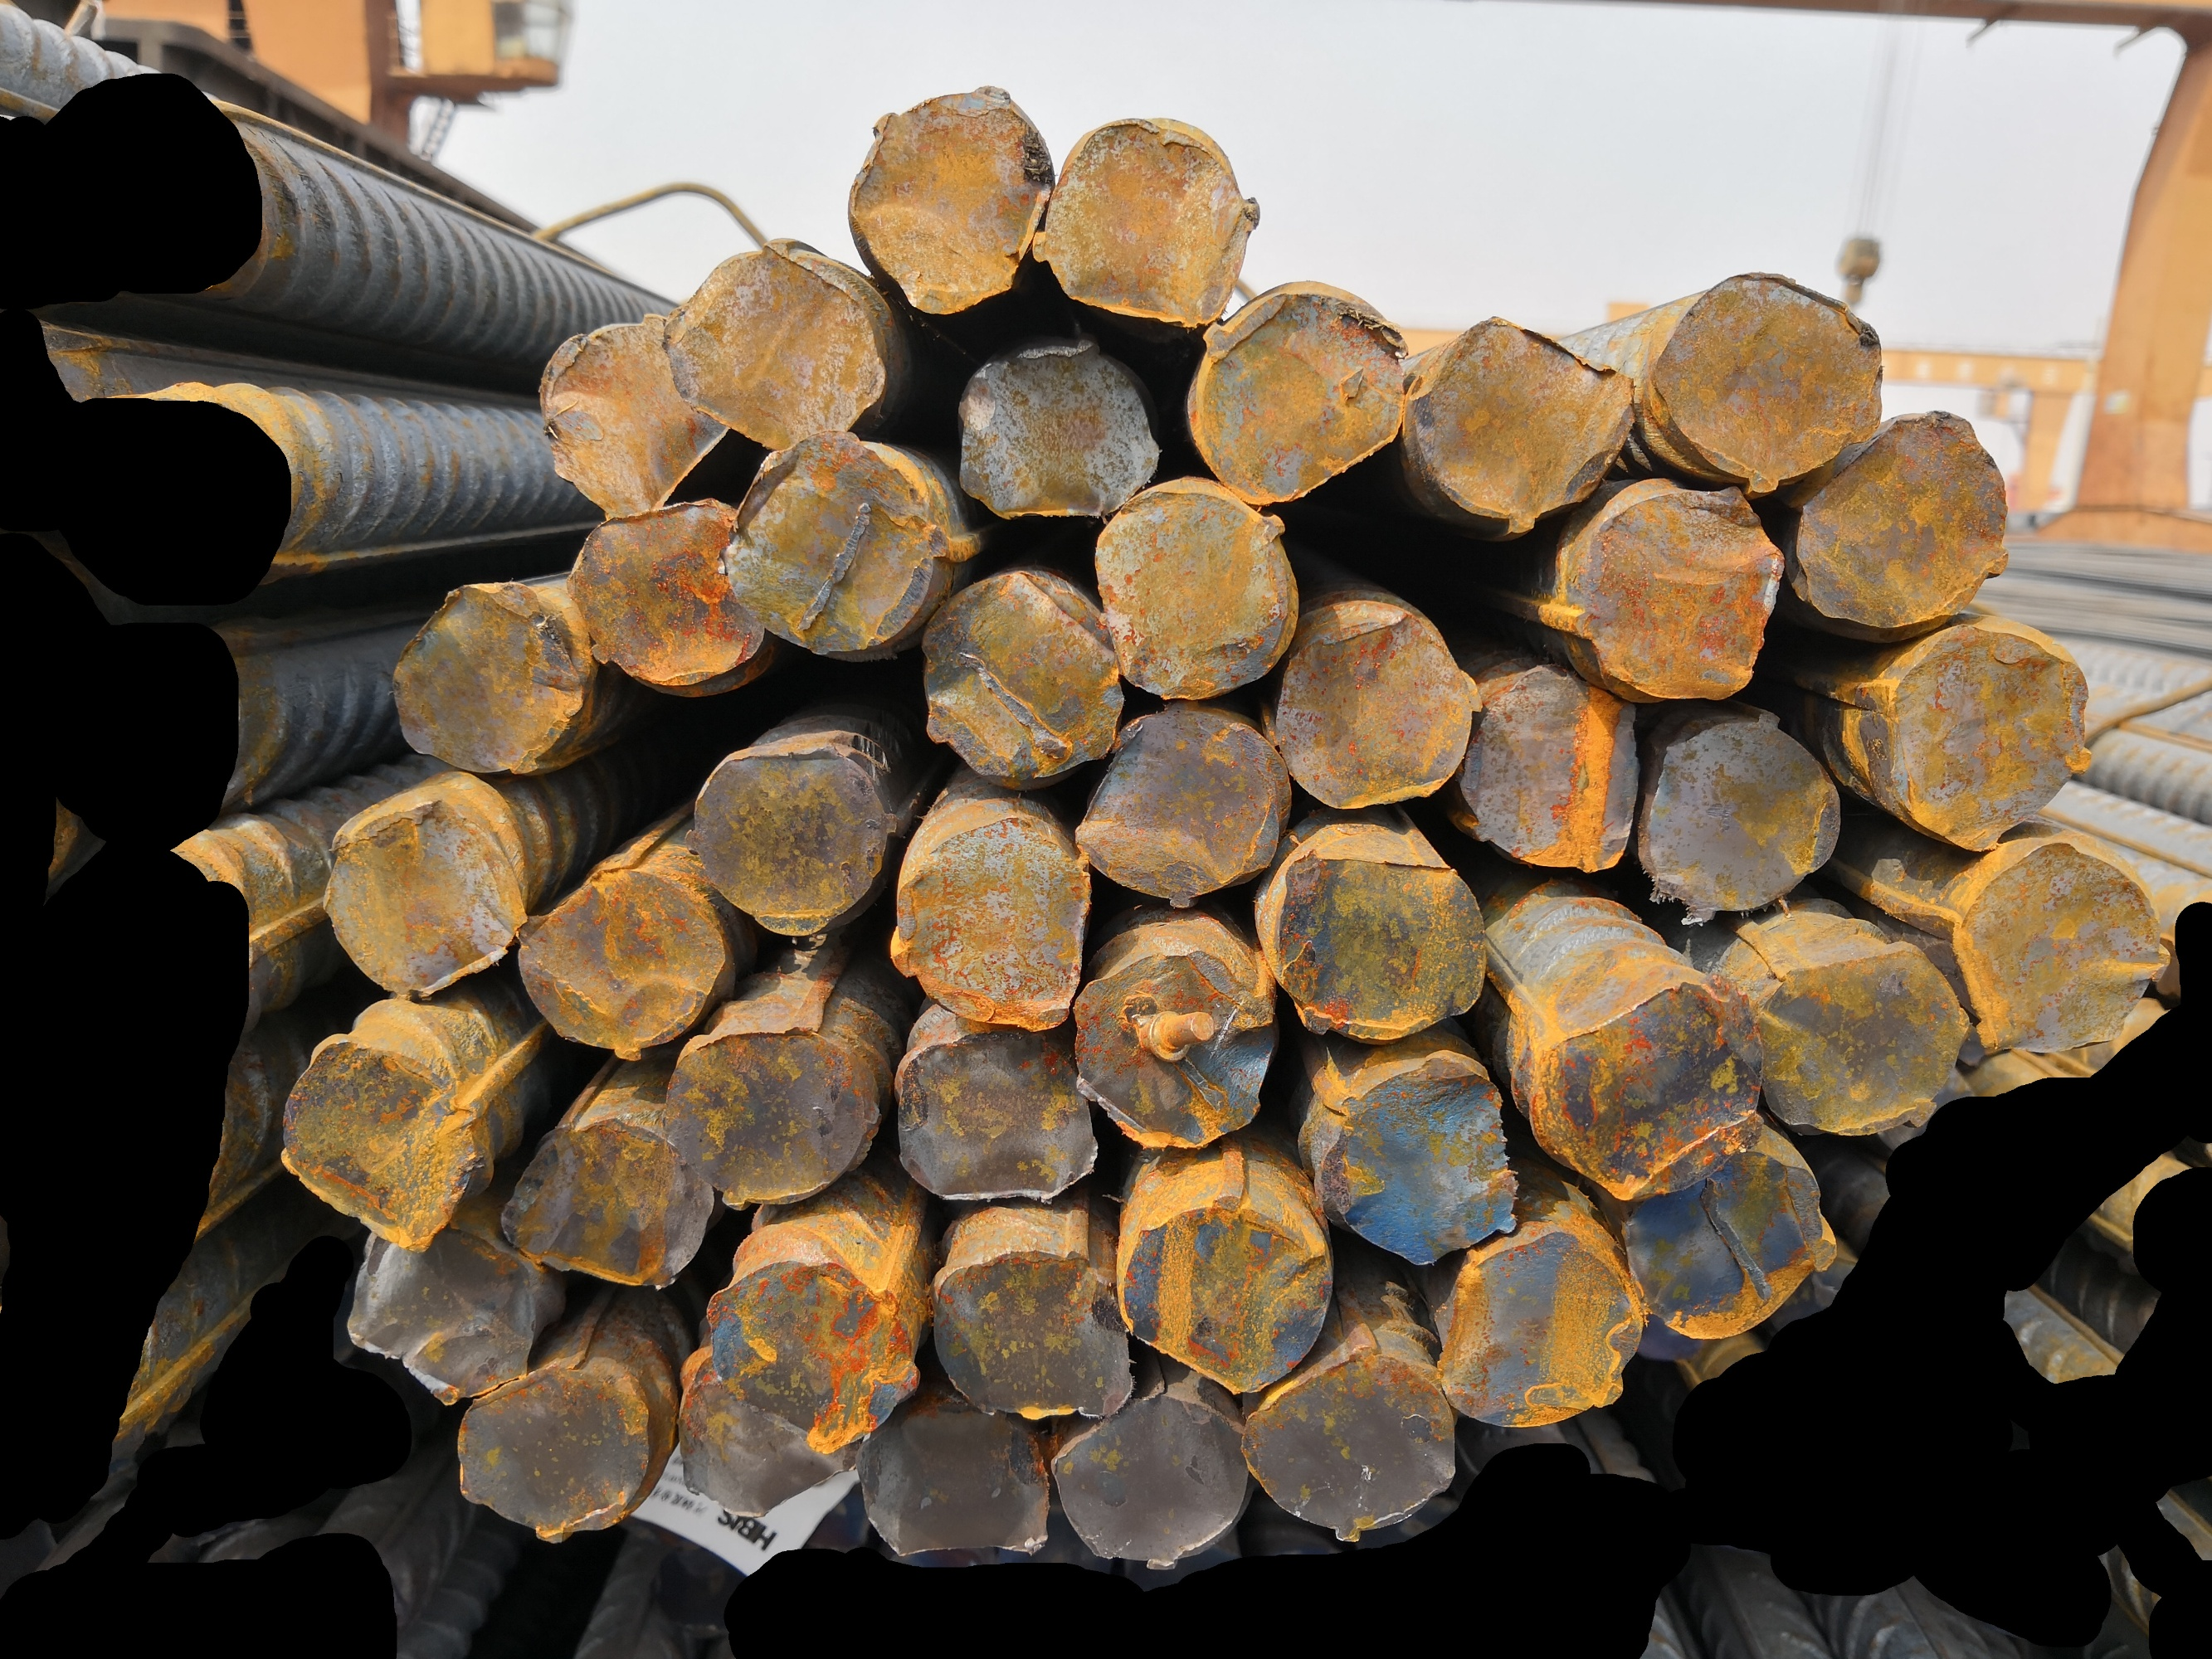rebar: (1647, 267, 1890, 495), (1184, 279, 1414, 511), (723, 427, 950, 662), (1529, 979, 1768, 1202), (1028, 113, 1262, 329), (1792, 408, 2013, 634), (1881, 620, 2093, 856), (844, 84, 1058, 315), (657, 239, 889, 453), (1417, 312, 1637, 535), (500, 859, 757, 1047), (1262, 599, 1487, 812), (917, 563, 1128, 789), (1952, 840, 2174, 1054), (1091, 483, 1304, 704), (1572, 483, 1787, 701), (1072, 706, 1295, 913), (277, 1032, 483, 1256), (887, 814, 1095, 1033), (1117, 1194, 1337, 1398), (1619, 1141, 1841, 1344), (1311, 1054, 1520, 1265), (1069, 946, 1279, 1154), (319, 798, 533, 1002), (702, 1258, 922, 1457), (1748, 945, 1971, 1140), (1639, 704, 1844, 915), (1241, 1344, 1457, 1544), (661, 1016, 882, 1211), (1272, 849, 1490, 1046), (1435, 1227, 1644, 1431), (537, 307, 734, 521), (683, 742, 899, 938), (563, 497, 772, 688), (389, 579, 589, 777), (343, 1206, 539, 1408), (953, 336, 1163, 523), (1457, 662, 1642, 873), (1048, 1389, 1257, 1572), (455, 1356, 655, 1546), (499, 1114, 715, 1288), (929, 1246, 1135, 1424), (891, 1032, 1102, 1202), (676, 1351, 865, 1520), (852, 1405, 1053, 1560)
